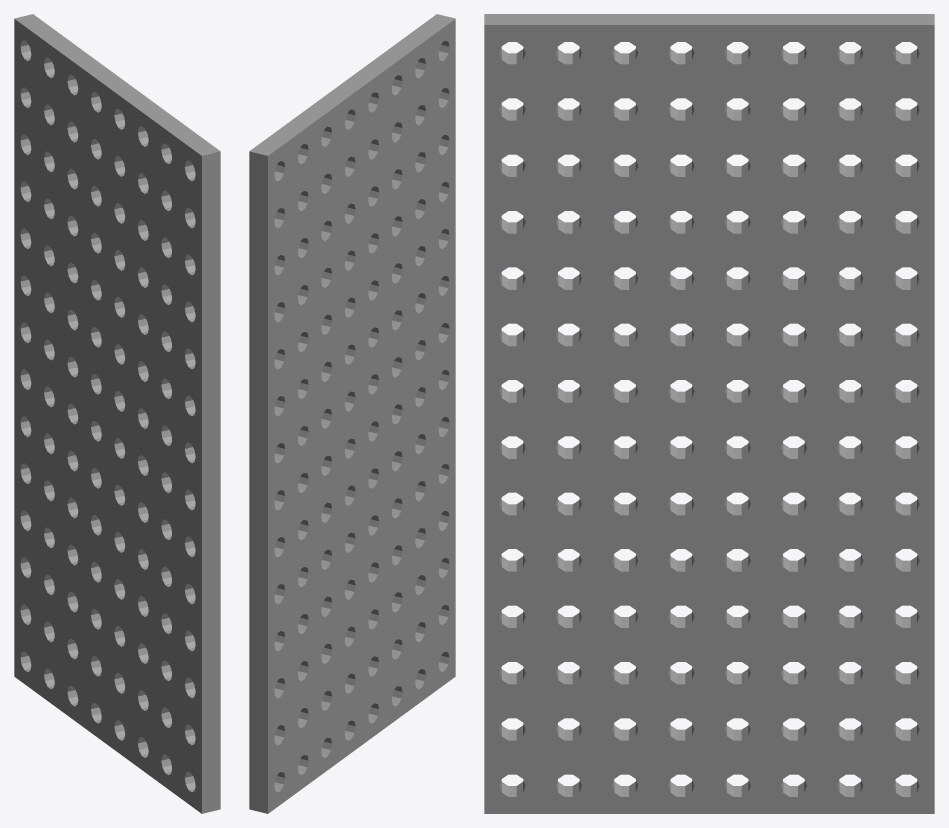
File: Shelf_01_Grid.glb
3 renders of one model, left to right at view 1: azimuth 30°, elevation 25°; view 2: azimuth 150°, elevation 25°; view 3: azimuth 270°, elevation 25°, orthographic. The views are drawn at different scales.
Parts seen in each view (by area): view 1: Mesh_Shelf_01_Grid; view 2: Mesh_Shelf_01_Grid; view 3: Mesh_Shelf_01_Grid.
Boxes of the visible parts, bbox=[...] form: Mesh_Shelf_01_Grid: bbox=[14, 14, 220, 813]; Mesh_Shelf_01_Grid: bbox=[249, 14, 455, 813]; Mesh_Shelf_01_Grid: bbox=[484, 14, 934, 813].
Bounding box in the file's own units: 0.05 × 1.67 × 0.863.
Materials: 1 (1 with a texture image).
